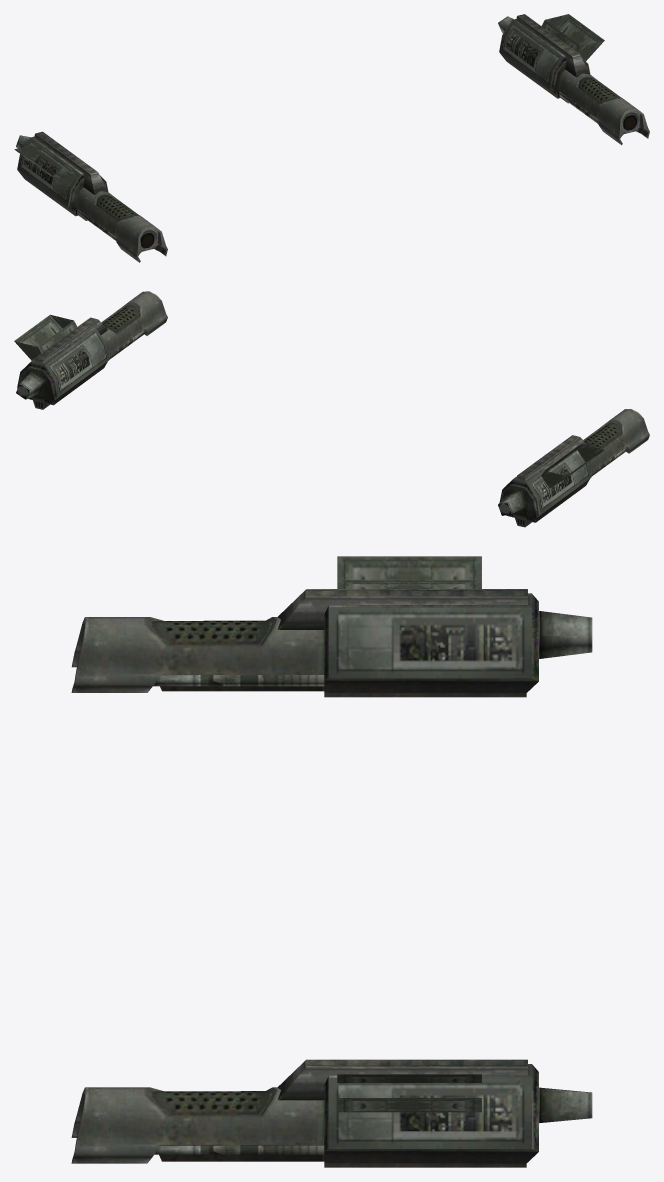
The model's file is black_sun_fighter_heavy_weapon3_s01_l1.fbx.
3 renders of one model, top to bottom at view 1: azimuth 30°, elevation 25°; view 2: azimuth 150°, elevation 25°; view 3: azimuth 270°, elevation 25°, orthographic. The views are drawn at different scales.
Visible parts, largest first — view 1: mesh_node; view 2: mesh_node; view 3: mesh_node.
Part boxes in pixels (box(x1,y1,x2,y2)): mesh_node: box(14, 14, 649, 262); mesh_node: box(14, 291, 649, 527); mesh_node: box(71, 556, 592, 1167).
Size of the model in its own units: 13.91 by 1.22 by 5.66.
1 material, 1 textured.
